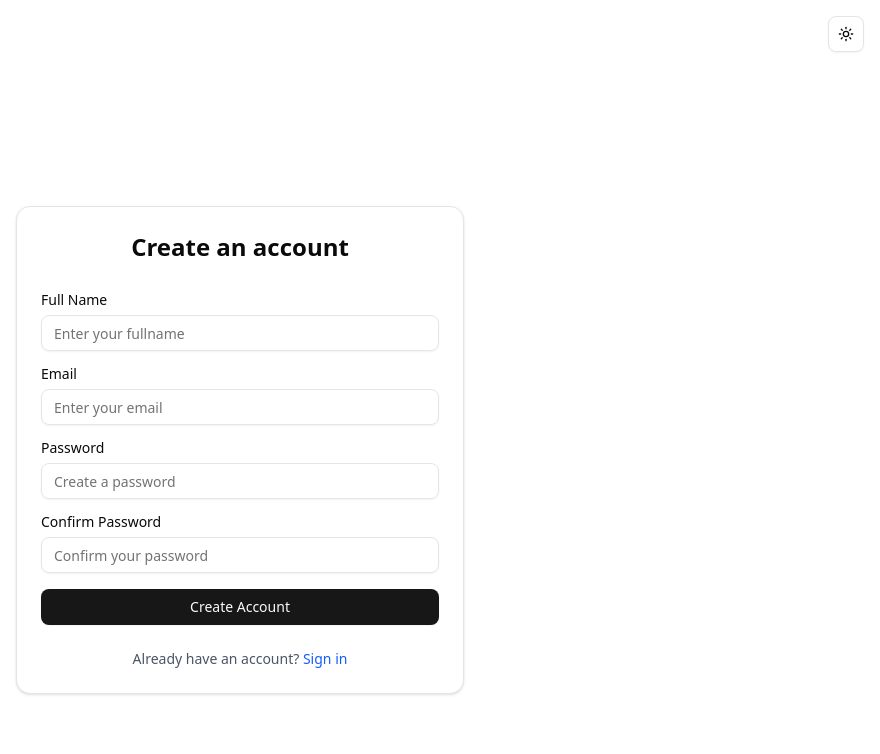
Test: RegisterForm › shows inline error when password is too short
Type "123" into the password field labelled "Password".
click(240, 481); type("123")  # box [41, 463, 439, 499]
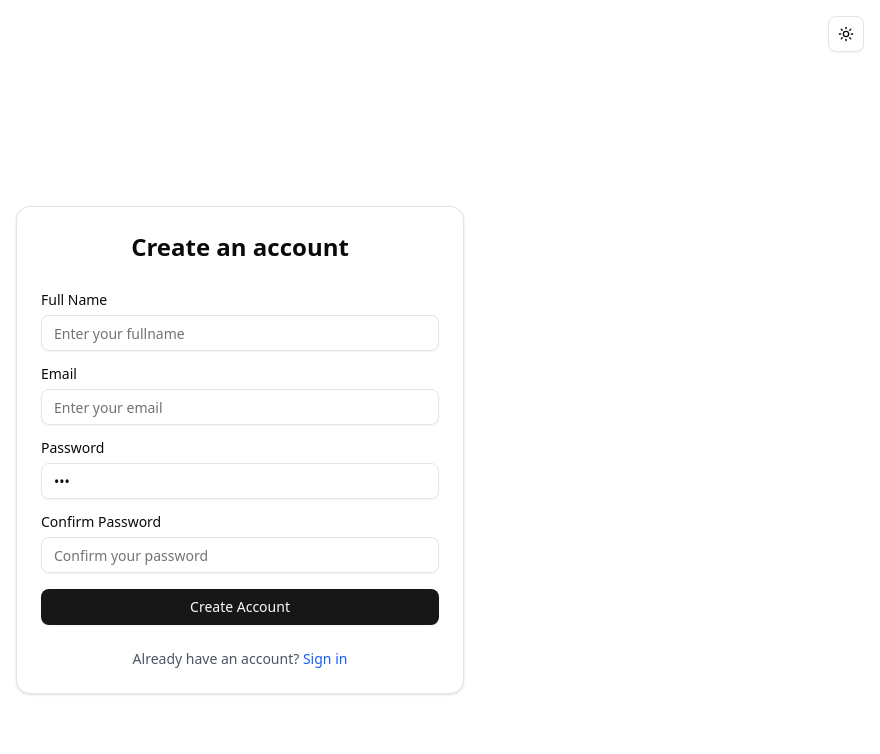
Type "123" into the password field labelled "Confirm Password".
click(240, 555); type("123")  # box [41, 537, 439, 573]
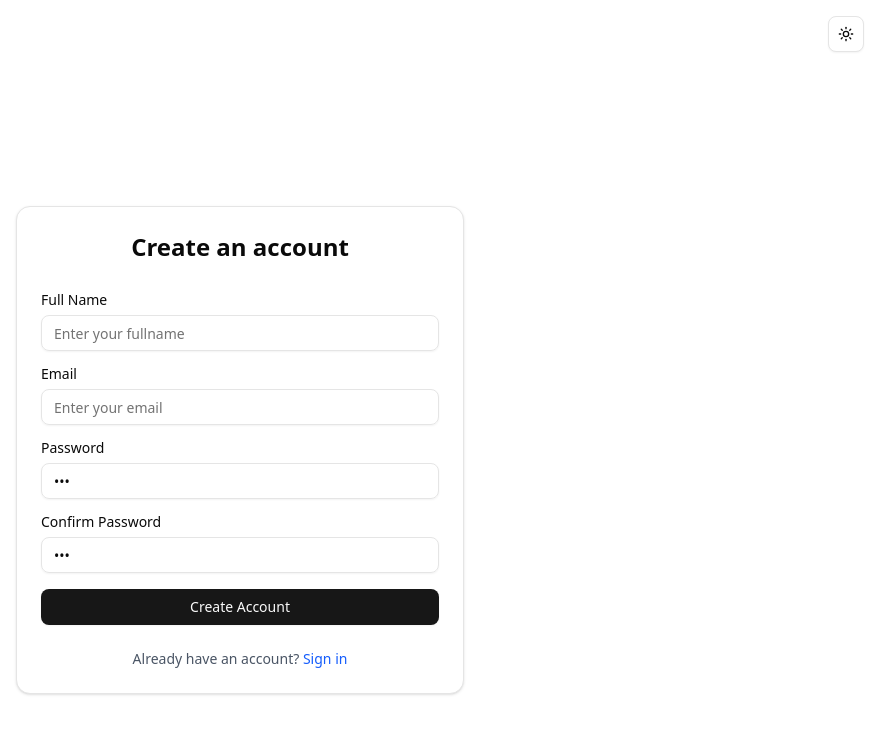
Click the button "Create Account".
click(240, 607)  # box [41, 589, 439, 625]
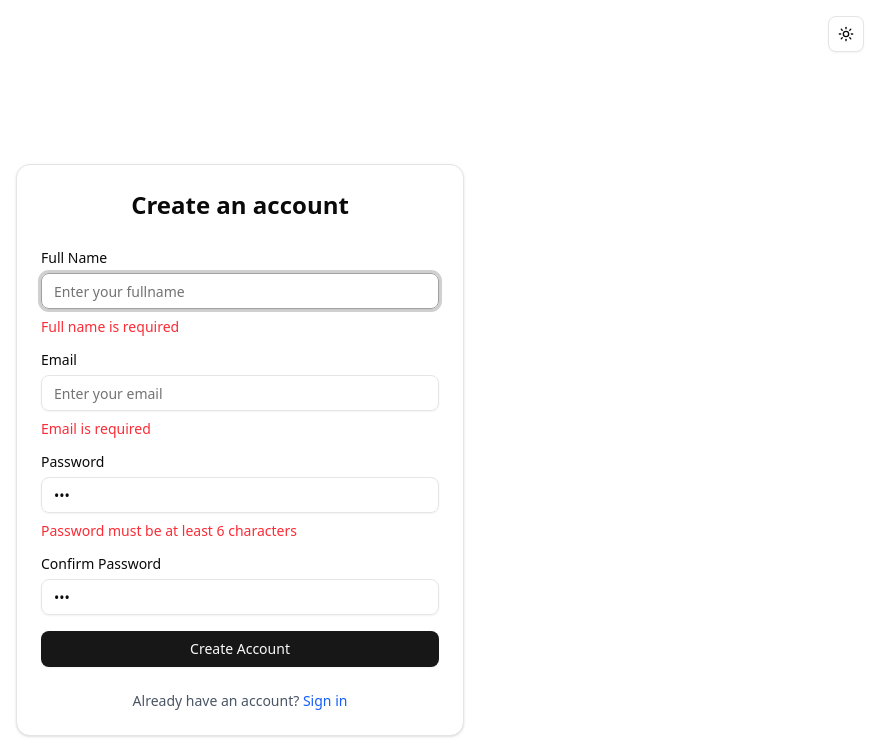
Expected: the text "Password must be at least 6 characters" is shown, [41, 521, 297, 540]
